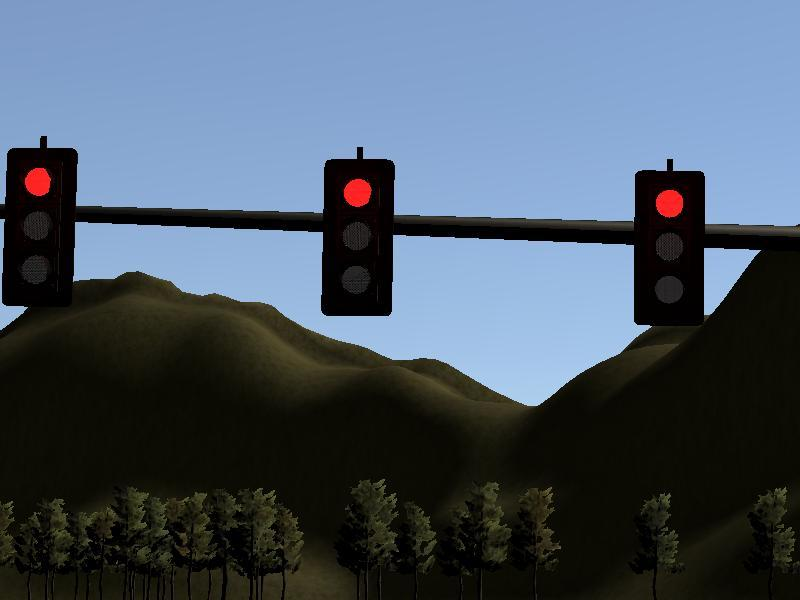Red: (322, 158, 393, 316), (6, 148, 75, 308), (634, 171, 704, 327)
